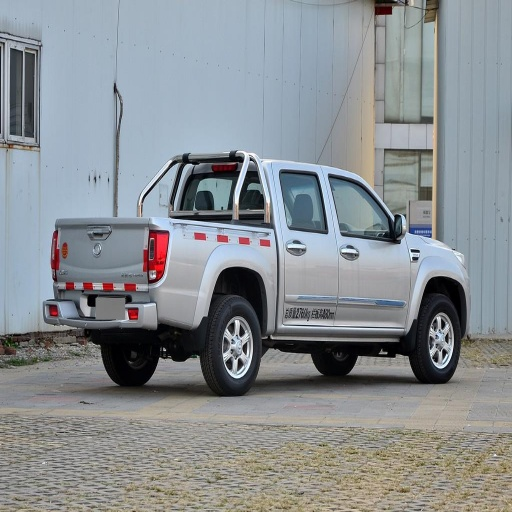back_bumper: (67, 297, 153, 326)
back_right_door: (277, 167, 338, 325)
trunk: (57, 210, 274, 331)
